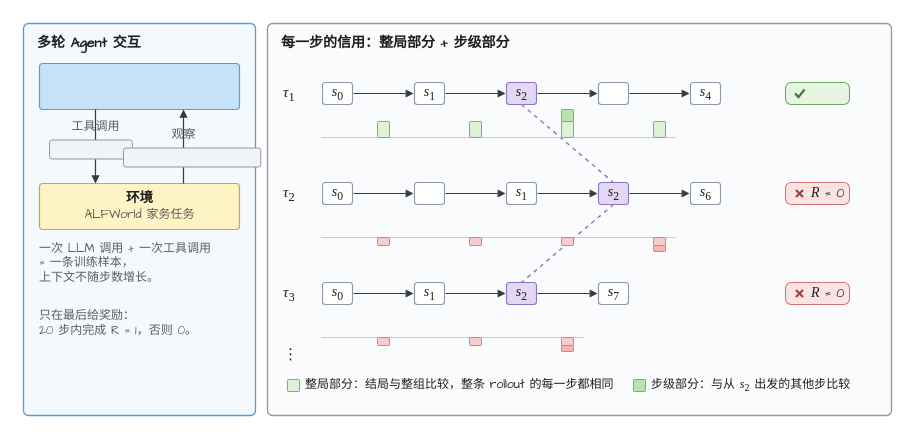
Image size: 914x438. Some labels were removed from this diagram. The shapes that lost their labels are listed below. From the top down, each one's centre as x and y in pixels, then its label:
(139,86): LLM Agent Qwen3-4B
(613,93): s 3
(817,93): R = 1
(90,149): go to fridge 1
(191,157): “You arrive at fridge 1.”
(429,193): s 5
